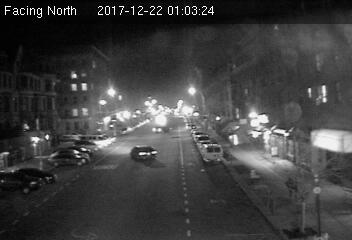car: (129, 144, 159, 160)
truck: (202, 144, 224, 164)
